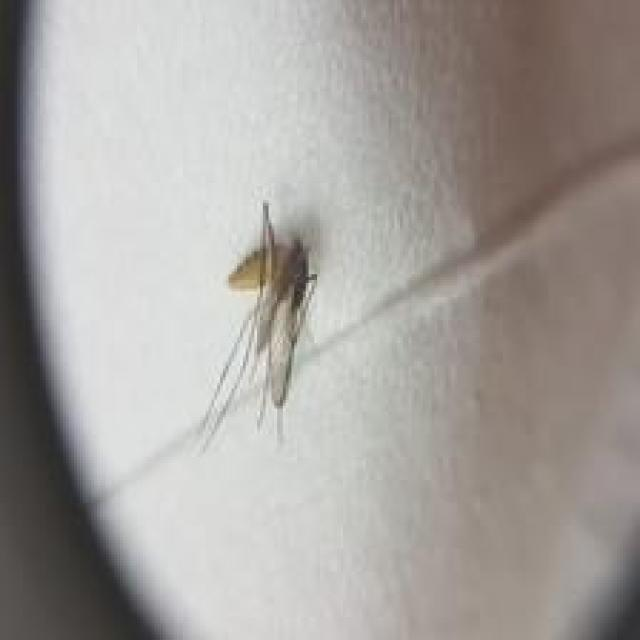Culex: (197, 199, 320, 450)
